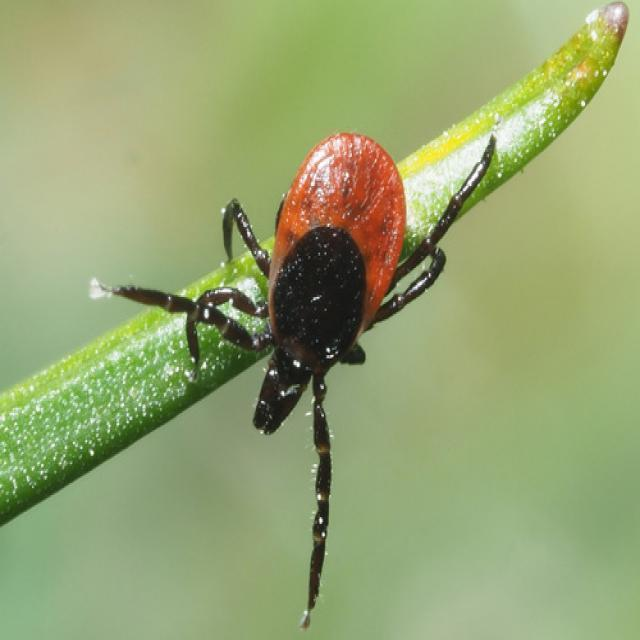Ixodes Ricinus-F: (91, 131, 499, 631)
